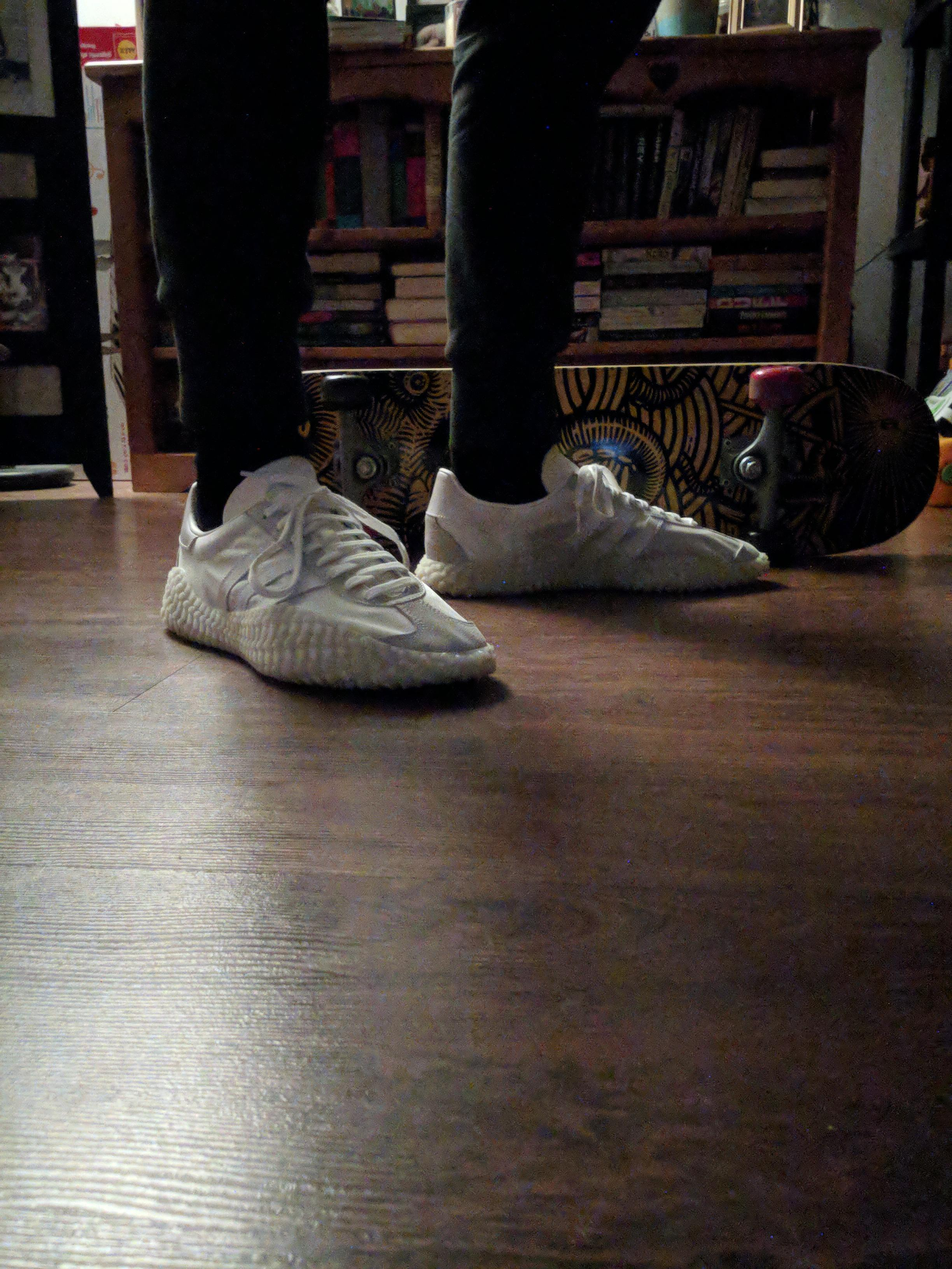sneaker: (158, 459, 502, 706), (427, 447, 768, 603)
